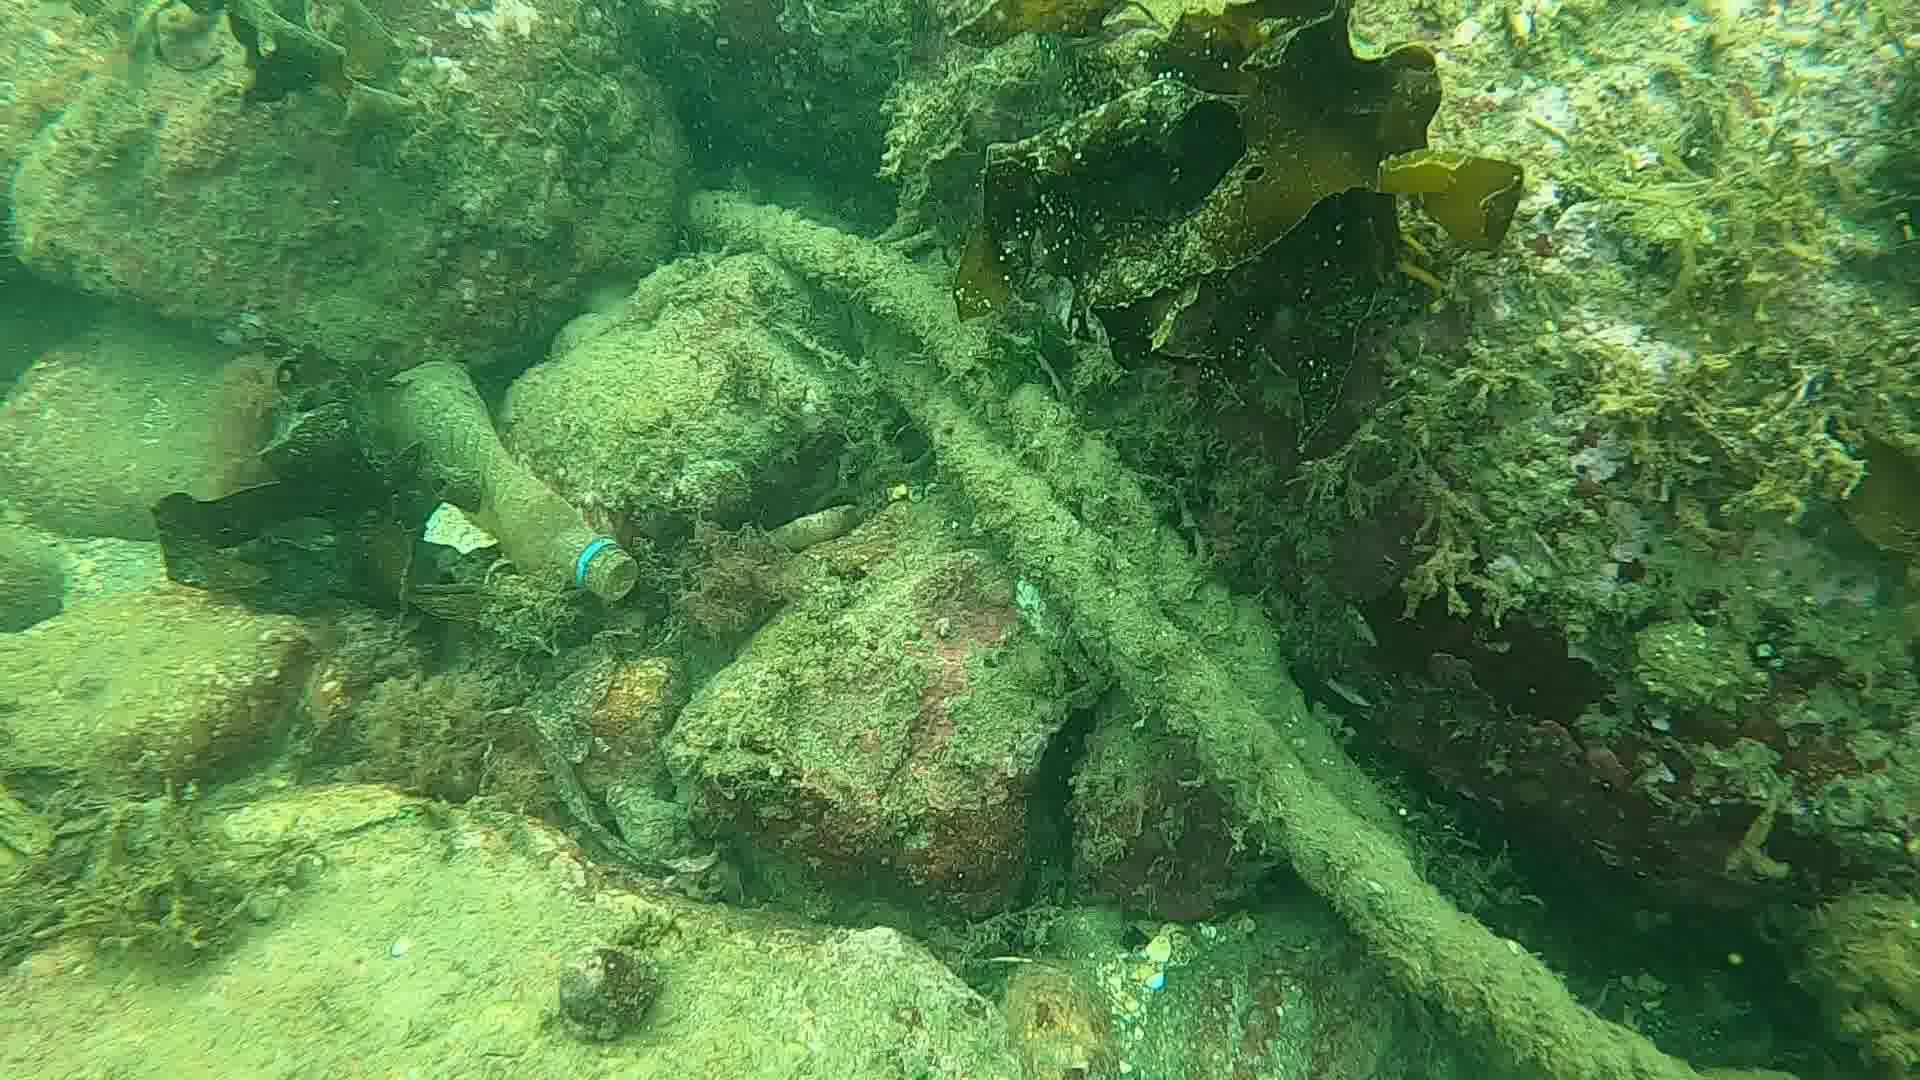bundle of ropes: (684, 186, 1705, 1080)
